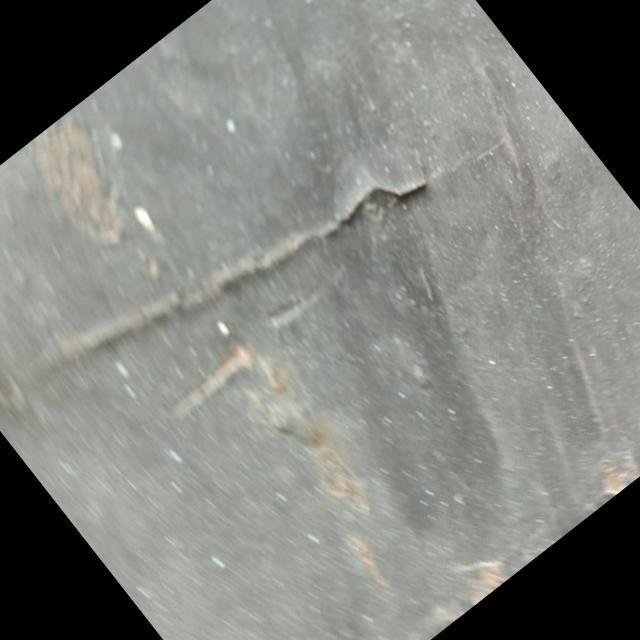defect: (47, 174, 434, 377)
